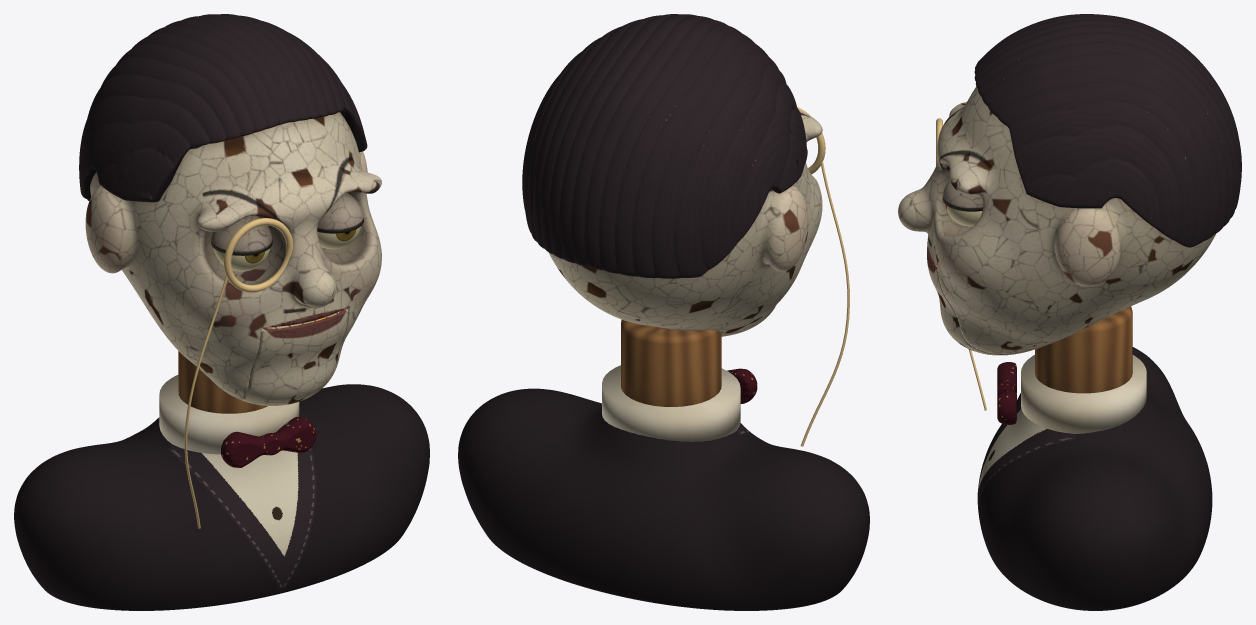
3 views of the same model, side by side, from view 1: azimuth 30°, elevation 25°; view 2: azimuth 150°, elevation 25°; view 3: azimuth 270°, elevation 25° (orthographic). The views are drawn at different scales.
Parts seen in each view (by area): view 1: Jacket, Head, Hair, Jaw, Collar, Bow, Neck, Monocle, Lid_R, Lid_L, Chain, Eye_R (+1 smaller); view 2: Jacket, Hair, Head, Neck, Collar, Chain, Bow; view 3: Hair, Jacket, Head, Neck, Collar, Bow, Jaw, Lid_L.
Part boxes in pixels (box(x1,y1,x2,y2)): Jacket: box(14, 384, 429, 610); Head: box(85, 112, 381, 397); Hair: box(79, 14, 367, 202); Jaw: box(233, 308, 348, 405); Collar: box(159, 375, 299, 454); Bow: box(221, 417, 316, 468); Neck: box(178, 351, 267, 413); Monocle: box(224, 218, 293, 292); Lid_R: box(211, 216, 272, 255); Lid_L: box(317, 193, 363, 233); Chain: box(184, 275, 227, 528); Eye_R: box(213, 248, 269, 271); Jacket: box(458, 388, 869, 610); Hair: box(522, 14, 807, 278); Head: box(548, 110, 822, 332); Neck: box(621, 319, 721, 406); Collar: box(602, 365, 740, 441); Chain: box(800, 161, 849, 446); Bow: box(727, 368, 757, 403); Hair: box(974, 14, 1241, 247); Jacket: box(977, 347, 1212, 610); Head: box(898, 86, 1215, 353); Neck: box(1035, 306, 1132, 393); Collar: box(1021, 355, 1146, 433); Bow: box(997, 362, 1016, 424); Jaw: box(927, 248, 1066, 355); Lid_L: box(942, 180, 982, 211).
Bounding box in the file's own units: 2.69 × 3.41 × 2.11.
4 materials, 3 textured.
